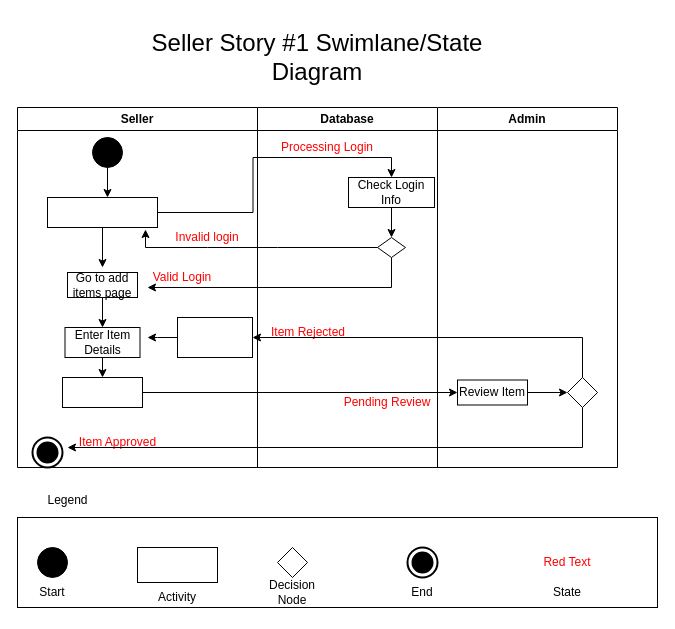
Image size: 675x629. Some labels were removed from this diagram. Each missing label, with the centre of its shape:
Enter Login Info: point 102,212
Receive rejection notice: point 214,337
Submit Item to be approved: point 102,392
